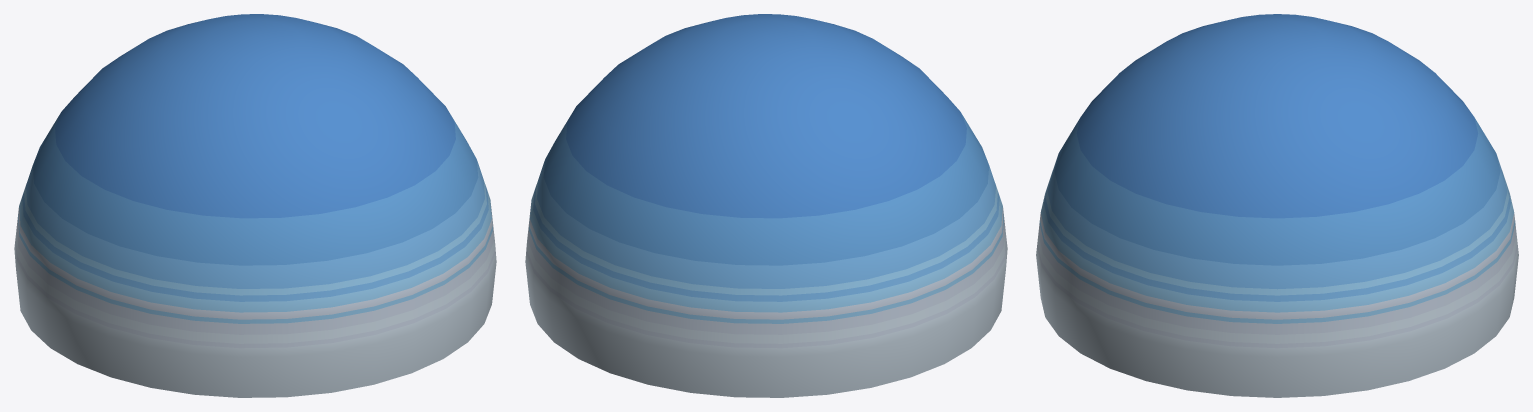
Rendered from ruin_sky.FBX.
3 views of the same model, side by side, from view 1: azimuth 30°, elevation 25°; view 2: azimuth 150°, elevation 25°; view 3: azimuth 270°, elevation 25° (orthographic).
Visible parts, largest first — view 1: sky; view 2: sky; view 3: sky.
Boxes of the visible parts, box(x1,y1,x2,y2) form: sky: box(14, 14, 496, 397); sky: box(525, 14, 1007, 397); sky: box(1036, 14, 1518, 397).
Bounding box in the file's own units: 315 × 188 × 315.
Materials: 1 (1 with a texture image).
